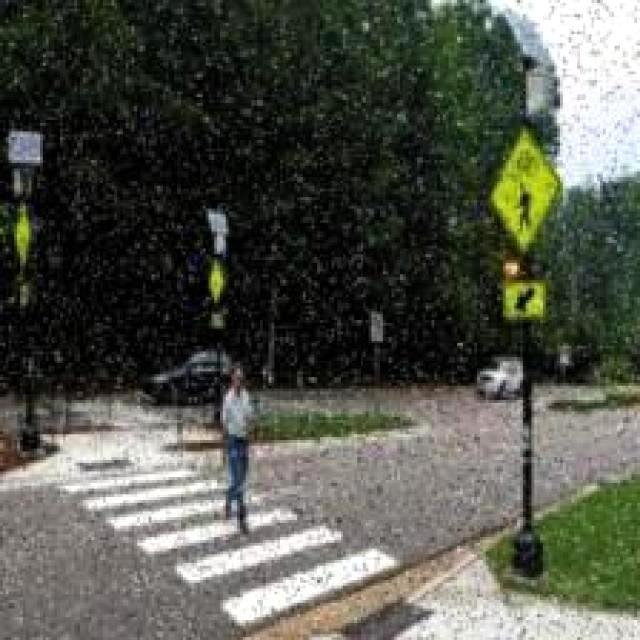crosswalk: (55, 447, 415, 639)
